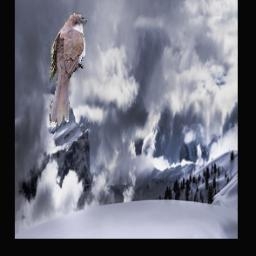Cuckoo: (50, 14, 90, 127)
